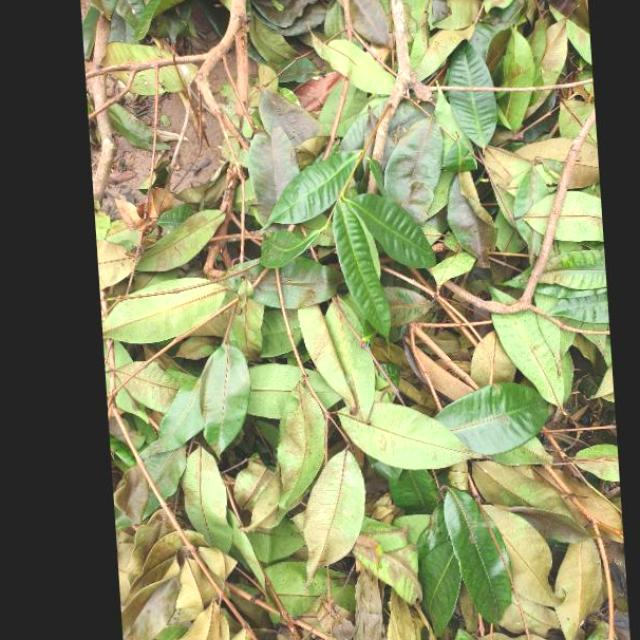la_cay: (112, 526, 220, 640), (524, 198, 605, 349), (249, 378, 323, 527), (321, 401, 467, 473), (329, 199, 398, 346), (466, 464, 588, 545), (436, 490, 507, 628), (479, 509, 552, 639), (290, 451, 361, 582), (97, 276, 226, 347), (100, 362, 198, 453), (486, 309, 571, 413), (301, 10, 397, 102), (155, 448, 233, 560), (431, 385, 547, 459), (484, 30, 559, 143), (317, 296, 377, 424), (266, 148, 360, 229), (345, 517, 421, 610), (436, 43, 500, 152), (406, 0, 485, 88), (382, 120, 444, 224), (241, 126, 300, 235), (191, 344, 247, 458), (222, 258, 343, 310), (92, 41, 201, 95), (131, 210, 223, 273), (410, 518, 456, 640), (258, 561, 347, 624), (541, 540, 597, 640), (255, 90, 328, 157), (381, 281, 455, 344), (447, 172, 495, 269), (87, 0, 190, 42), (241, 364, 297, 421), (464, 330, 509, 389), (338, 0, 391, 47), (170, 609, 244, 640), (345, 566, 375, 640), (93, 240, 132, 289), (298, 369, 337, 410), (376, 594, 408, 640), (485, 287, 513, 305)
